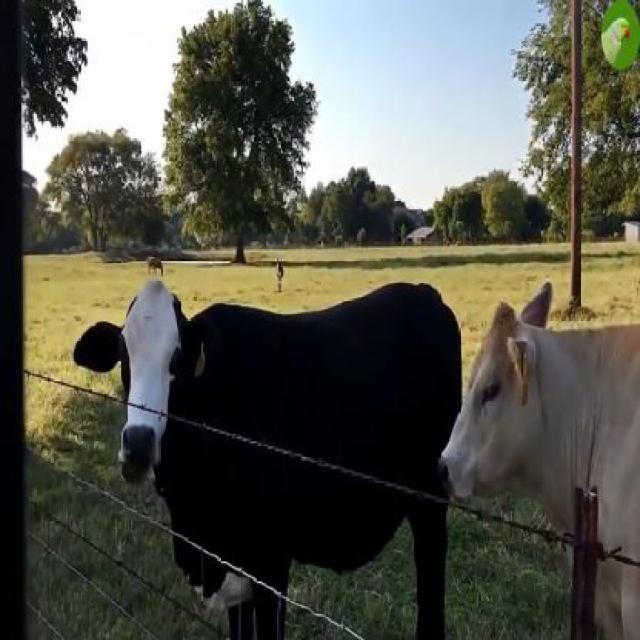Cow: (75, 283, 463, 639)
